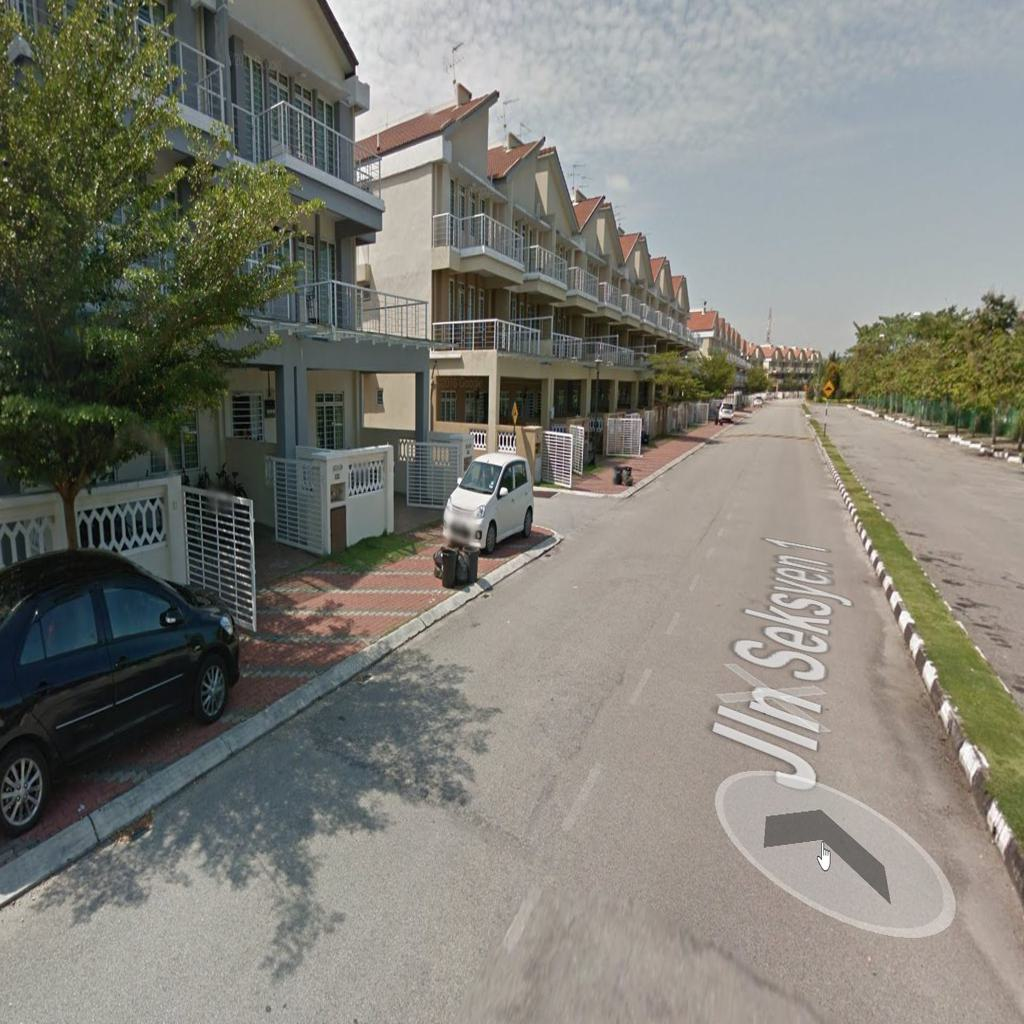Junction: (520, 448, 636, 563)
